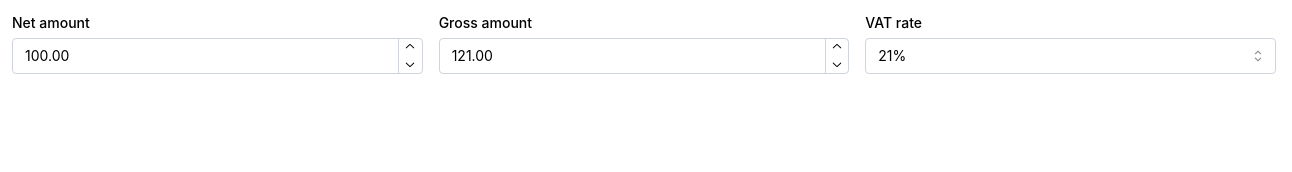
Test: LineItem - Optimistic State › retains committed value even when parent does not update props
The width and height of the screenshot is (1292, 172).
Expected: the field with test id "line-item-gross" holds "121.00", [439,38,849,74]
Replace the text in the field with test id "line-item-net" with "200" at (217, 56), box [12,38,423,74]
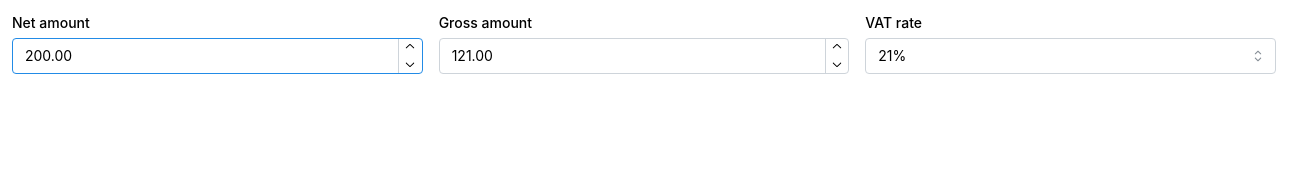
Press Tab
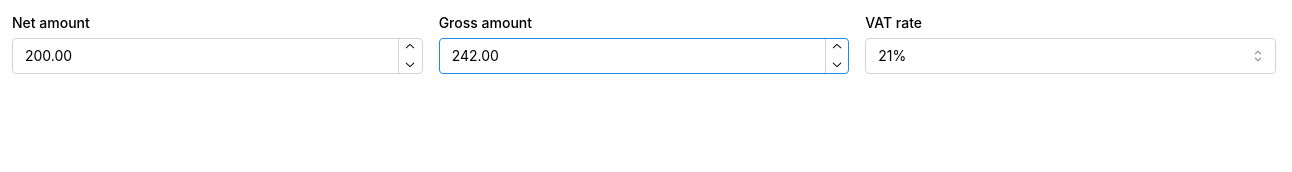
Expected: the field with test id "line-item-net" holds "200.00", [12,38,423,74]
Expected: the field with test id "line-item-gross" holds "242.00", [439,38,849,74]
